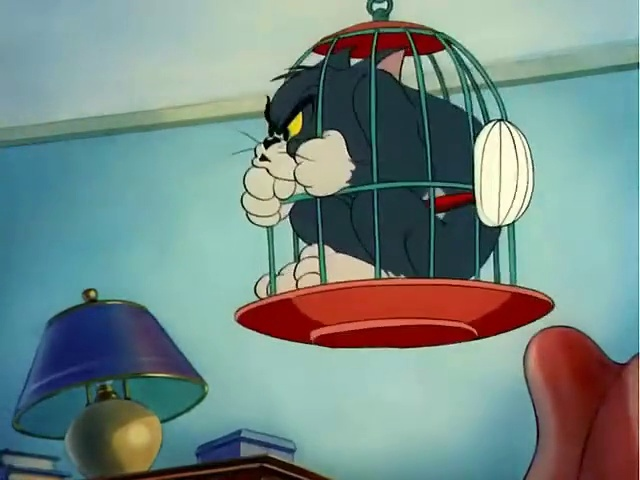tom: (224, 42, 528, 287)
